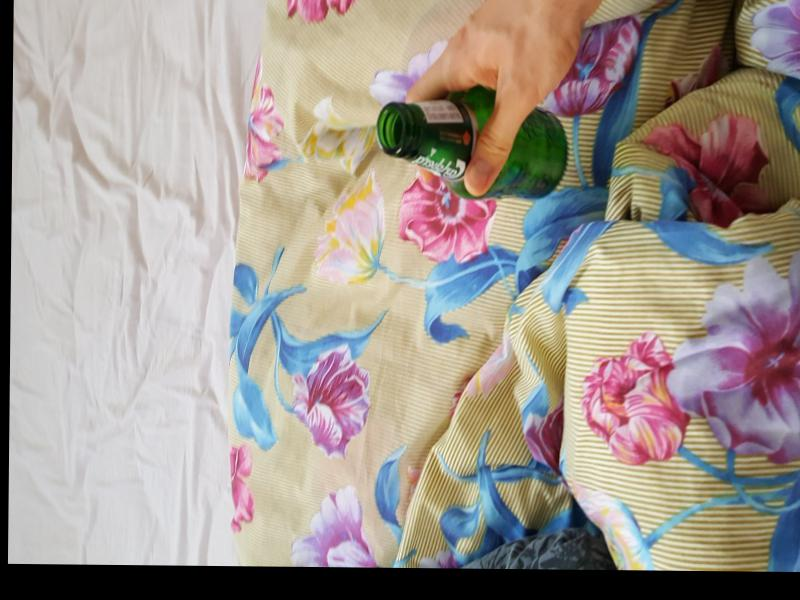Beer: (379, 84, 568, 198)
